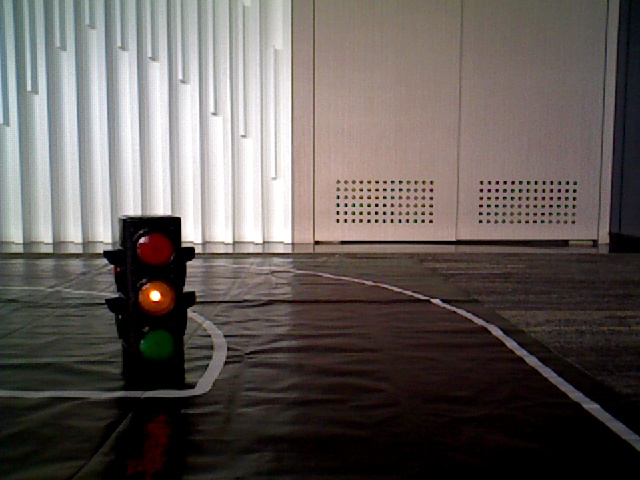yellow: (123, 223, 186, 384)
